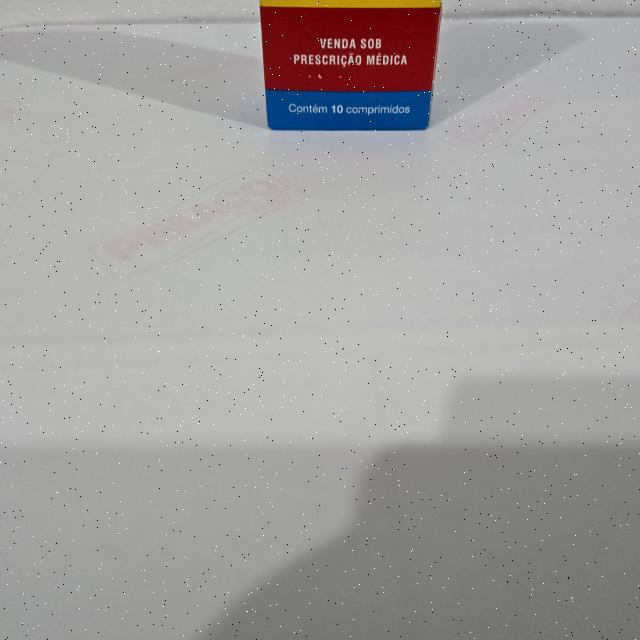prednisona: (249, 0, 453, 135)
